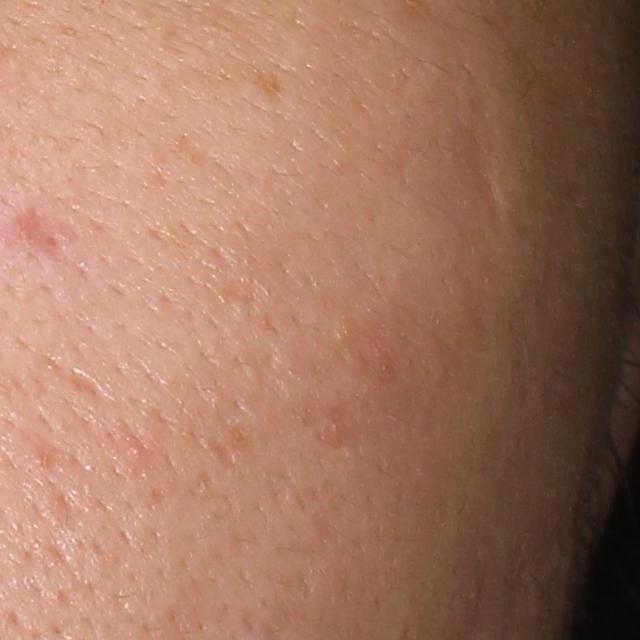melasma: (252, 67, 282, 104)
